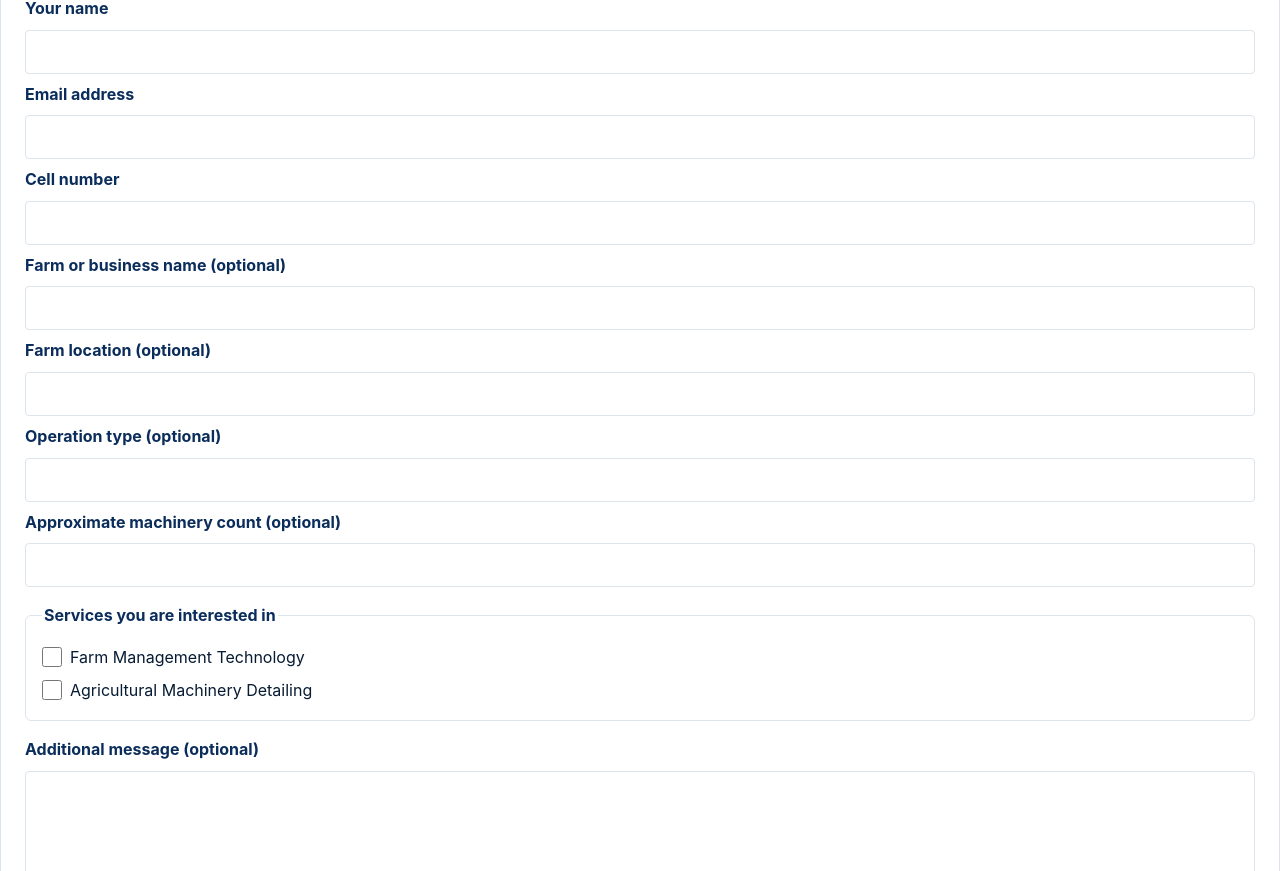
it: EnquiryForm › sends the approved fields with a stable idempotency key across retry
This screenshot has width=1280, height=871.
In the field labelled "Your name": (640,52) [25,30,1255,74], type "Example Contact"
In the field labelled "Email address": (640,137) [25,115,1255,159], type "contact@example.com"
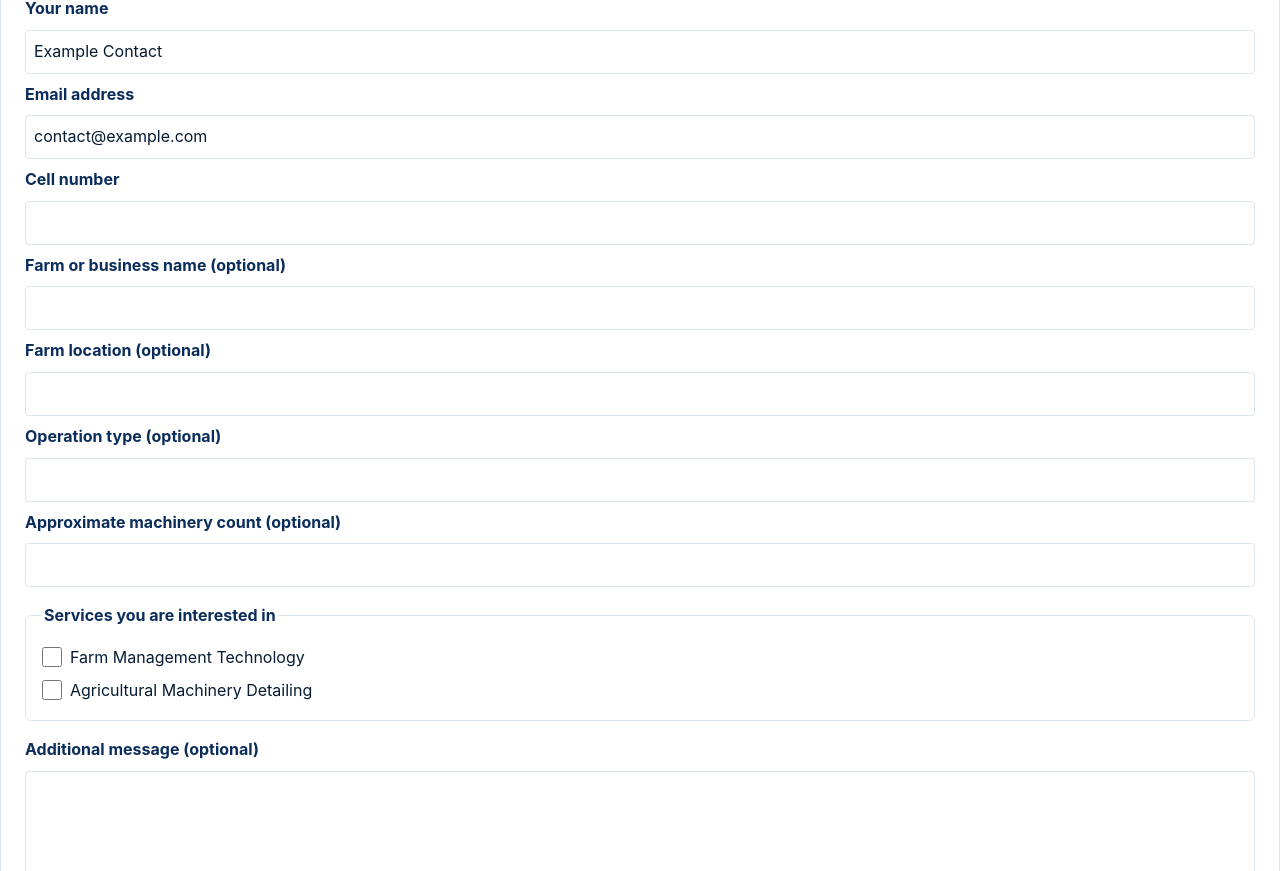
In the field labelled "Cell number": (640,223) [25,201,1255,245], type "+27 00 000 0000"
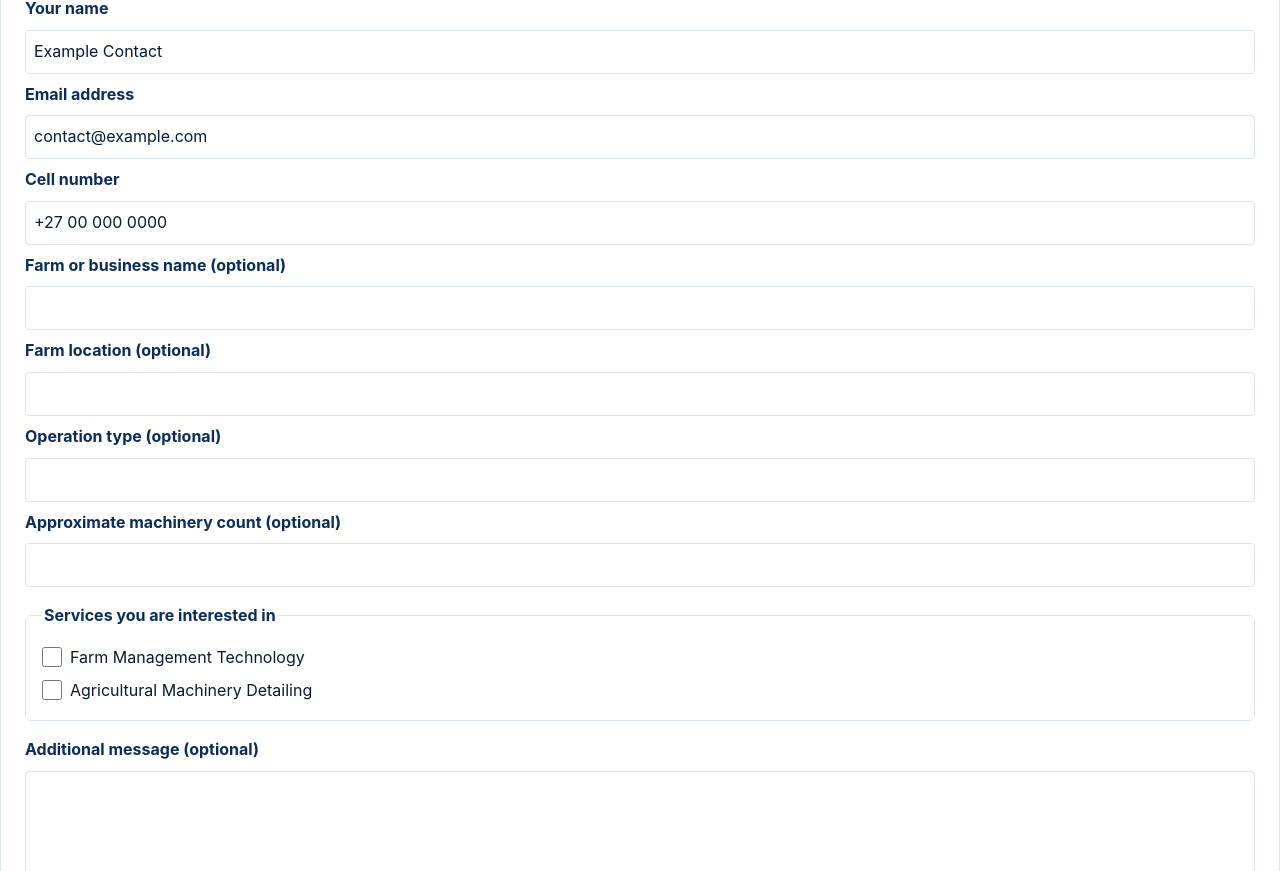
Click the checkbox labelled "Farm Management Technology": (52,657) [42,647,62,667]
(page scrolled)
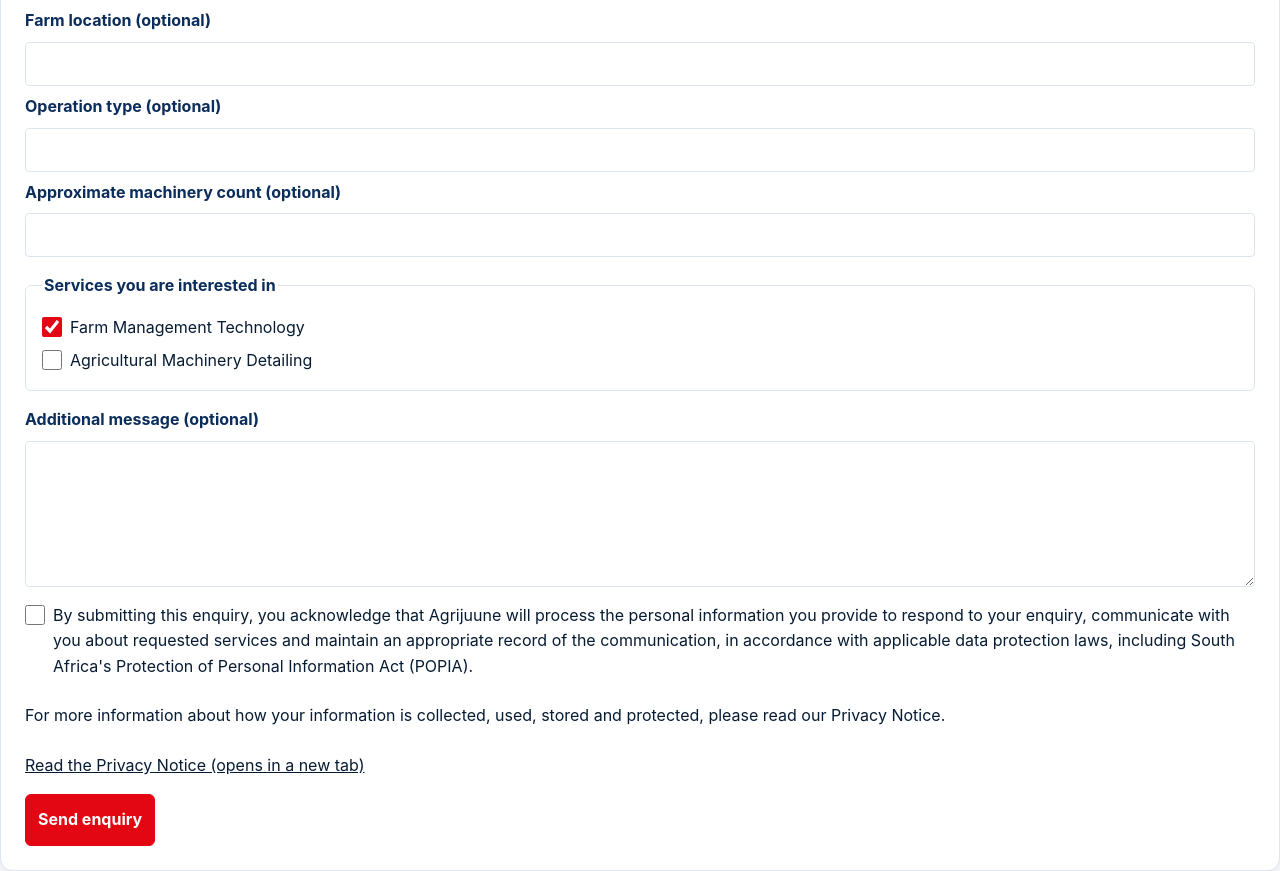
Click the checkbox labelled "By submitting this enquiry": (35,614) [25,604,45,624]
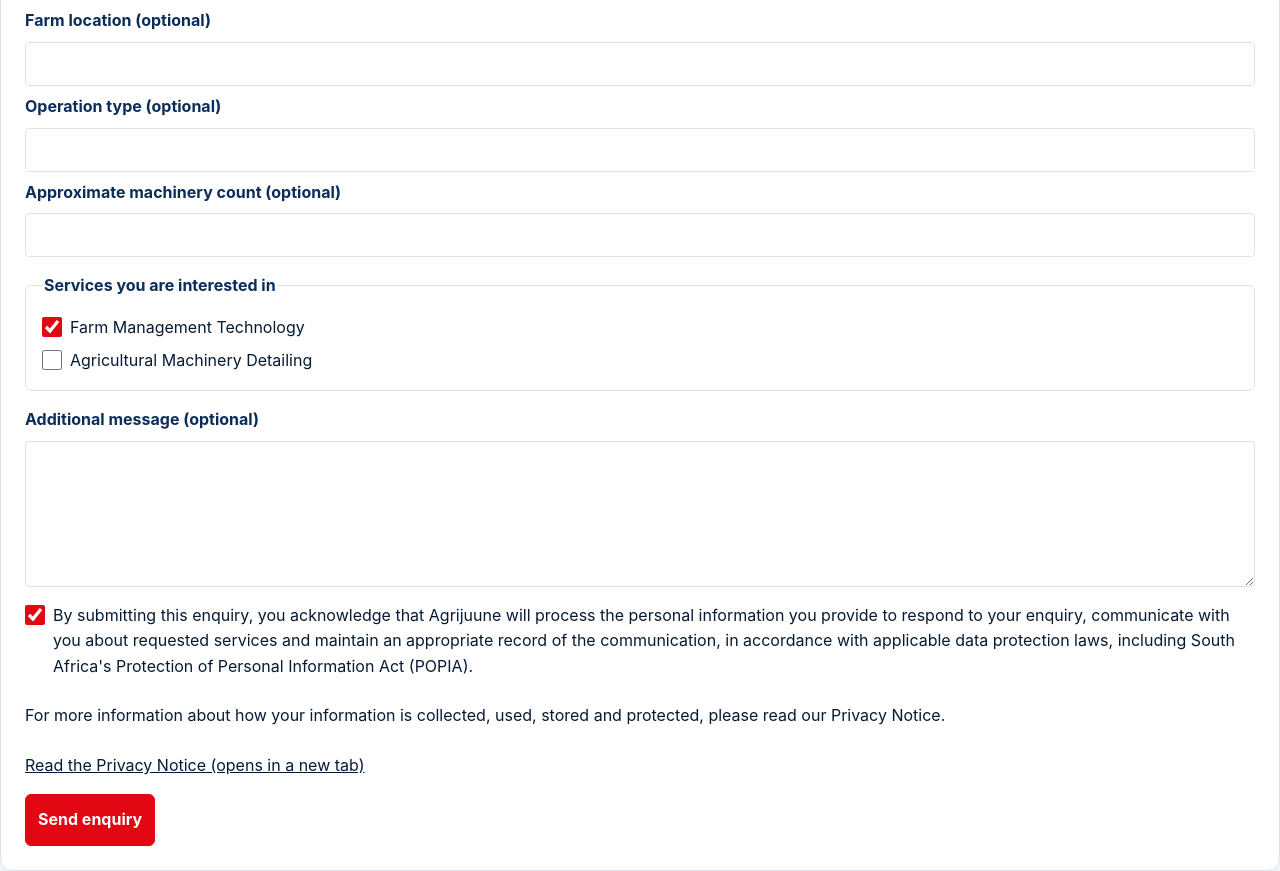
Click the button "Send enquiry": (90,820) [25,794,155,846]
(page scrolled)
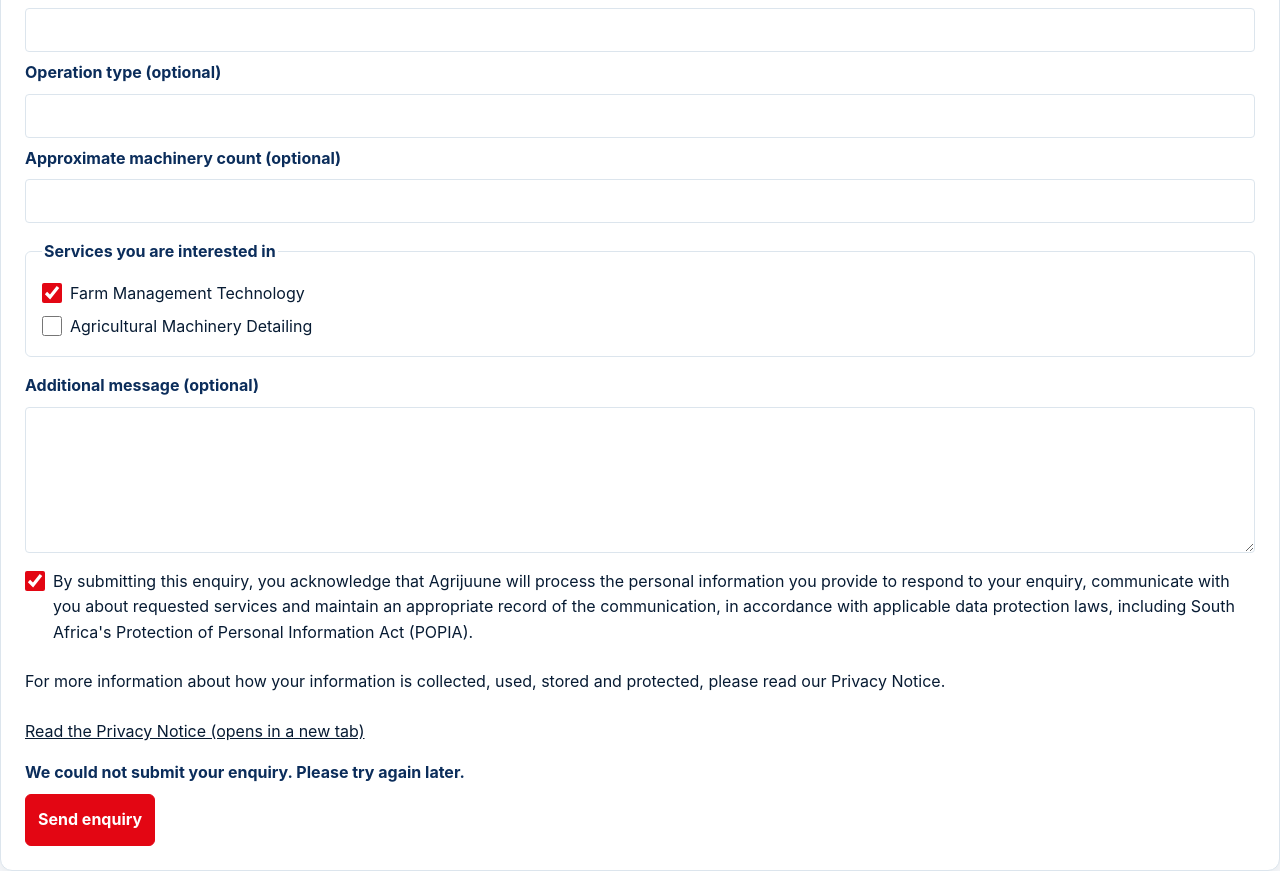
Result: the message reads "We could not submit your enquiry. Please try again later." at [25,762,465,782]
Click the button "Send enquiry": (90,820) [25,794,155,846]
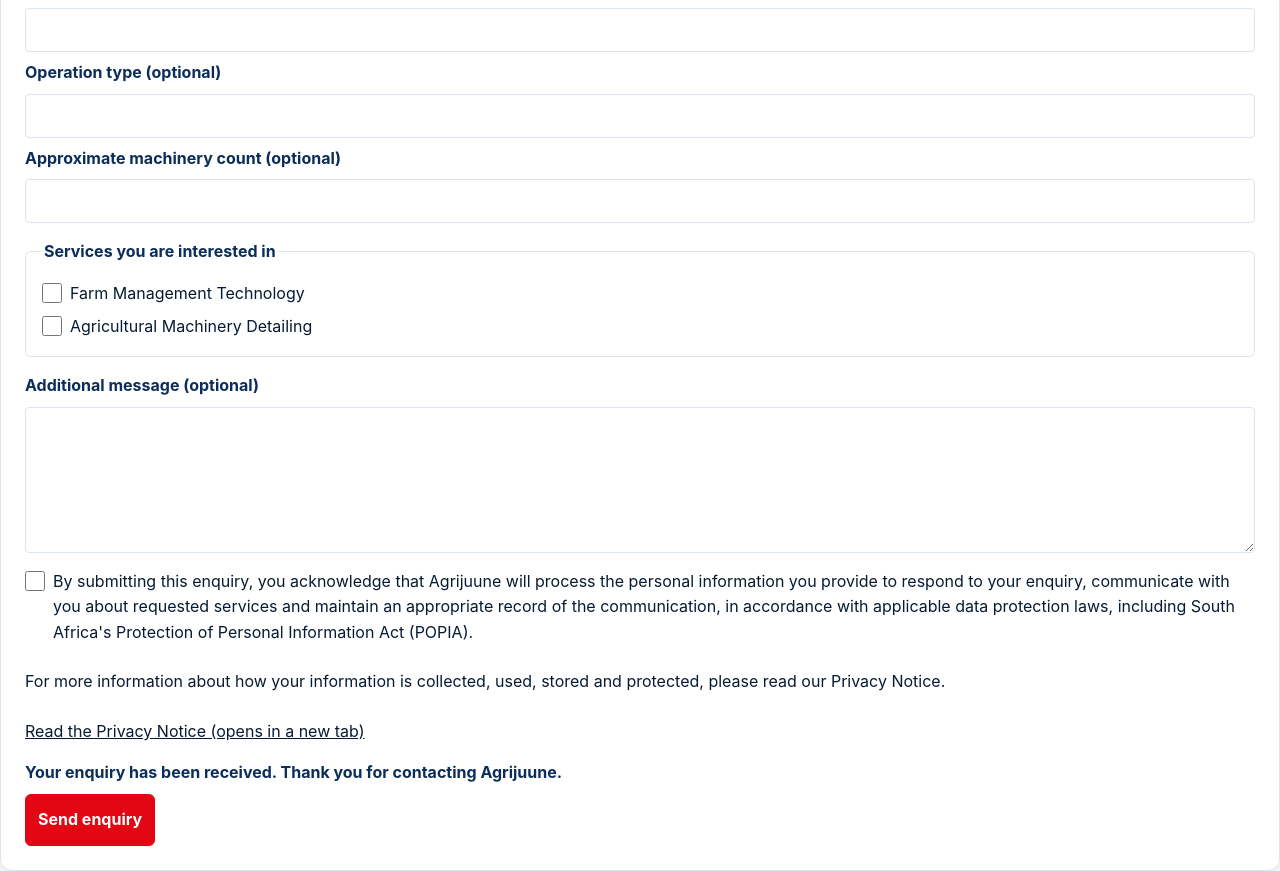
Result: the message reads "Your enquiry has been received. Thank you for contacting Agrijuune." at [25,762,562,782]
